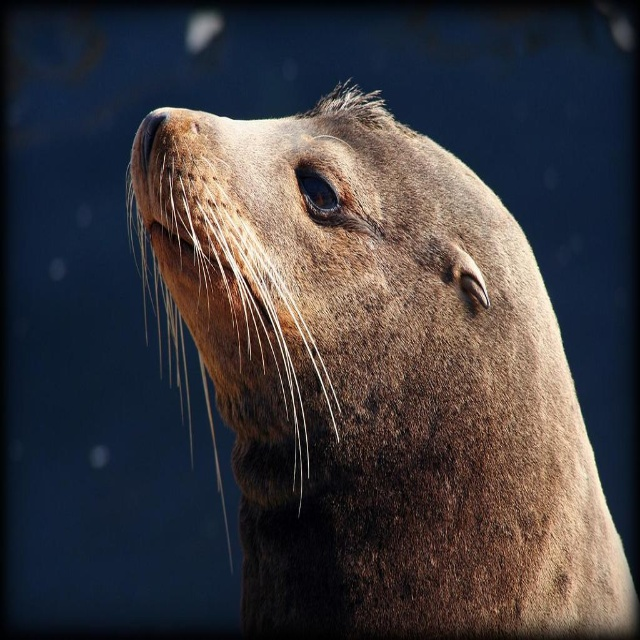Sea lion: (125, 78, 640, 639)
